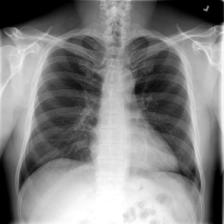normal: (15, 28, 205, 196)
